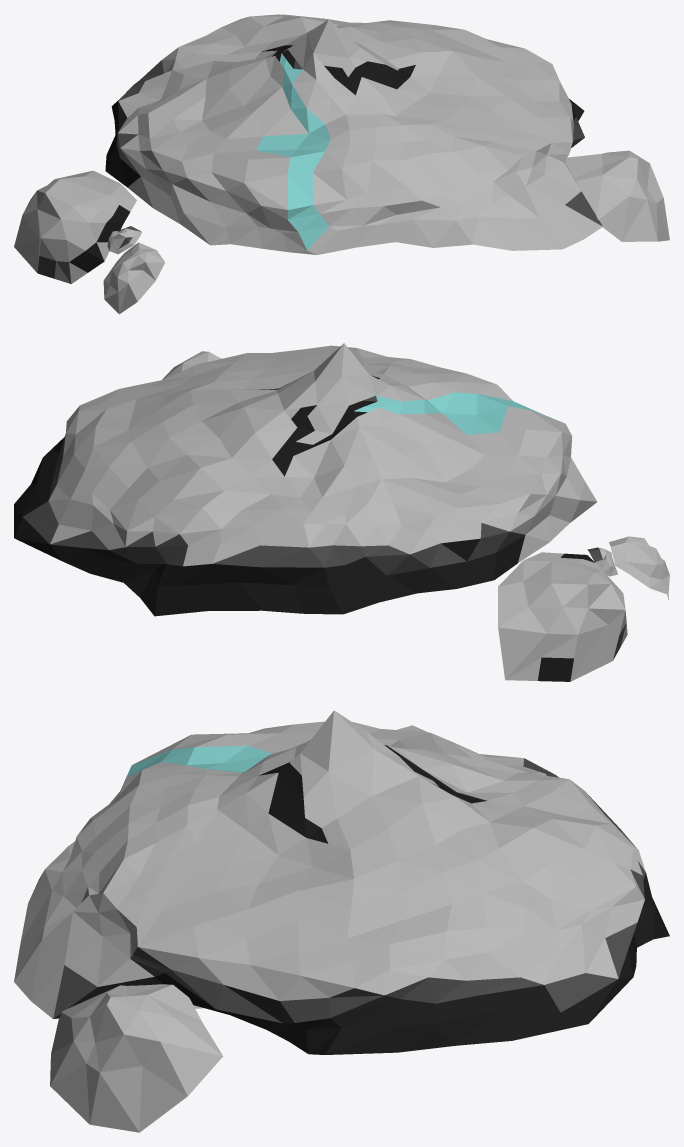
File: NorthLandMass_1.obj
3 renders of one model, top to bottom at view 1: azimuth 30°, elevation 25°; view 2: azimuth 150°, elevation 25°; view 3: azimuth 270°, elevation 25°, orthographic. The views are drawn at different scales.
Visible parts, largest first — view 1: Icosphere.001_Icosphere.003; view 2: Icosphere.001_Icosphere.003; view 3: Icosphere.001_Icosphere.003.
Part boxes in pixels (box(x1,y1,x2,y2)): Icosphere.001_Icosphere.003: box(14, 14, 669, 314); Icosphere.001_Icosphere.003: box(14, 343, 669, 681); Icosphere.001_Icosphere.003: box(14, 710, 669, 1132).
Size of the model in its own units: 50.35 by 19.35 by 43.19.
